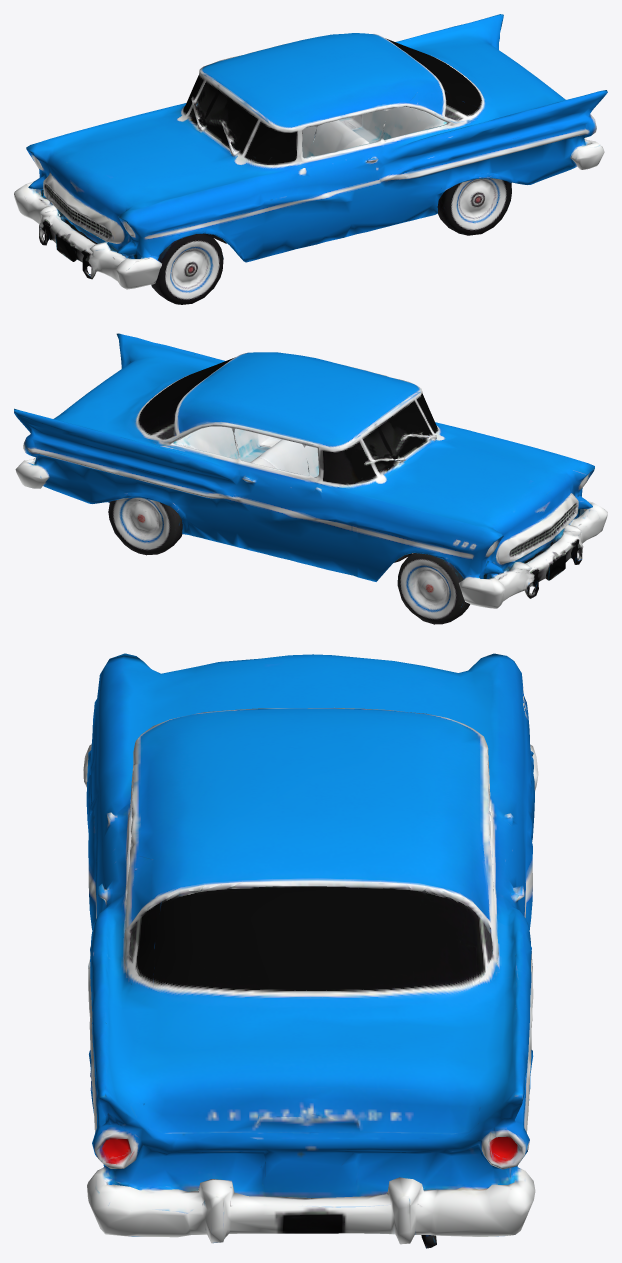
Rendered from Meshy_AI_1960s_American_classi_0501203948_texture.fbx.
3 views of the same model, one above another, from view 1: azimuth 30°, elevation 25°; view 2: azimuth 150°, elevation 25°; view 3: azimuth 270°, elevation 25° (orthographic). The views are drawn at different scales.
Visible parts, largest first — view 1: Mesh_0; view 2: Mesh_0; view 3: Mesh_0.
Part boxes in pixels (x1,y1,x2,y2): Mesh_0: [14, 14, 607, 304]; Mesh_0: [14, 333, 607, 624]; Mesh_0: [83, 653, 538, 1248].
Size of the model in its own units: 191 by 59.85 by 76.48.
Materials: 1 (1 with a texture image).
